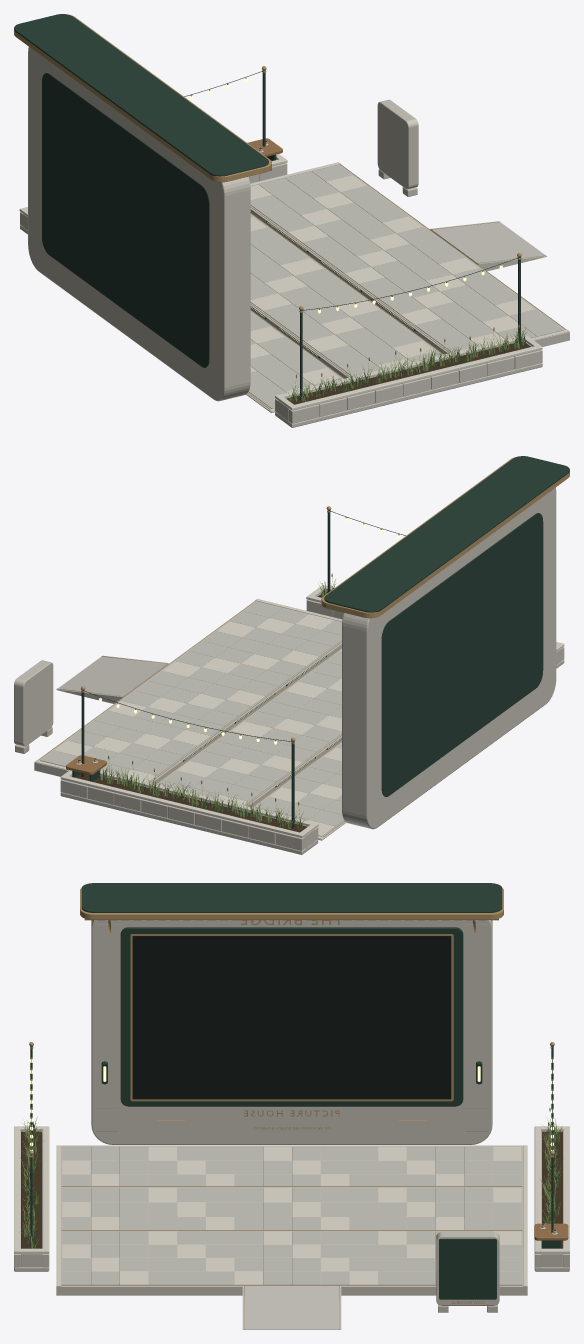
The model's file is cinema.glb.
The picture shows the model from 3 angles, top to bottom: view 1: azimuth 30°, elevation 25°; view 2: azimuth 150°, elevation 25°; view 3: azimuth 270°, elevation 25°; orthographic projection. The views are drawn at different scales.
Visible parts, largest first — view 1: Cinema evergreen enamel, Cinema dressed stone paving, Cinema warm limestone, Cinema honed limestone, Cinema brushed bronze, Cinema meadow grasses, Cinema dark loam and coffee; view 2: Cinema evergreen enamel, Cinema dressed stone paving, Cinema warm limestone, Cinema honed limestone, Cinema brushed bronze, Cinema meadow grasses, Cinema dark loam and coffee, Cinema oiled oak; view 3: Cinema screen matte backing, Cinema dressed stone paving, Cinema warm limestone, Cinema evergreen enamel, Cinema honed limestone, Cinema brushed bronze, Cinema dark loam and coffee, Cinema meadow grasses, Cinema oiled oak.
Boxes of the visible parts, left/top/right/bottom form: Cinema evergreen enamel: left=14, top=14, right=520, bottom=400; Cinema dressed stone paving: left=248, top=165, right=563, bottom=408; Cinema warm limestone: left=20, top=47, right=569, bottom=427; Cinema honed limestone: left=19, top=141, right=569, bottom=411; Cinema brushed bronze: left=14, top=15, right=566, bottom=409; Cinema meadow grasses: left=288, top=327, right=526, bottom=401; Cinema dark loam and coffee: left=259, top=141, right=530, bottom=404; Cinema evergreen enamel: left=72, top=456, right=569, bottom=828; Cinema dressed stone paving: left=40, top=601, right=343, bottom=826; Cinema warm limestone: left=14, top=487, right=564, bottom=854; Cinema honed limestone: left=34, top=585, right=564, bottom=839; Cinema brushed bronze: left=38, top=457, right=569, bottom=837; Cinema meadow grasses: left=100, top=579, right=335, bottom=829; Cinema dark loam and coffee: left=71, top=591, right=327, bottom=832; Cinema oiled oak: left=66, top=605, right=322, bottom=774; Cinema screen matte backing: left=132, top=936, right=451, bottom=1099; Cinema dressed stone paving: left=62, top=1146, right=521, bottom=1329; Cinema warm limestone: left=14, top=920, right=569, bottom=1312; Cinema evergreen enamel: left=30, top=883, right=560, bottom=1299; Cinema honed limestone: left=14, top=1126, right=569, bottom=1286; Cinema brushed bronze: left=29, top=888, right=554, bottom=1329; Cinema dark loam and coffee: left=21, top=1131, right=562, bottom=1248; Cinema meadow grasses: left=19, top=1116, right=562, bottom=1248; Cinema oiled oak: left=84, top=918, right=568, bottom=1240.
Size of the model in its own units: 13.74 by 7.61 by 15.8.
